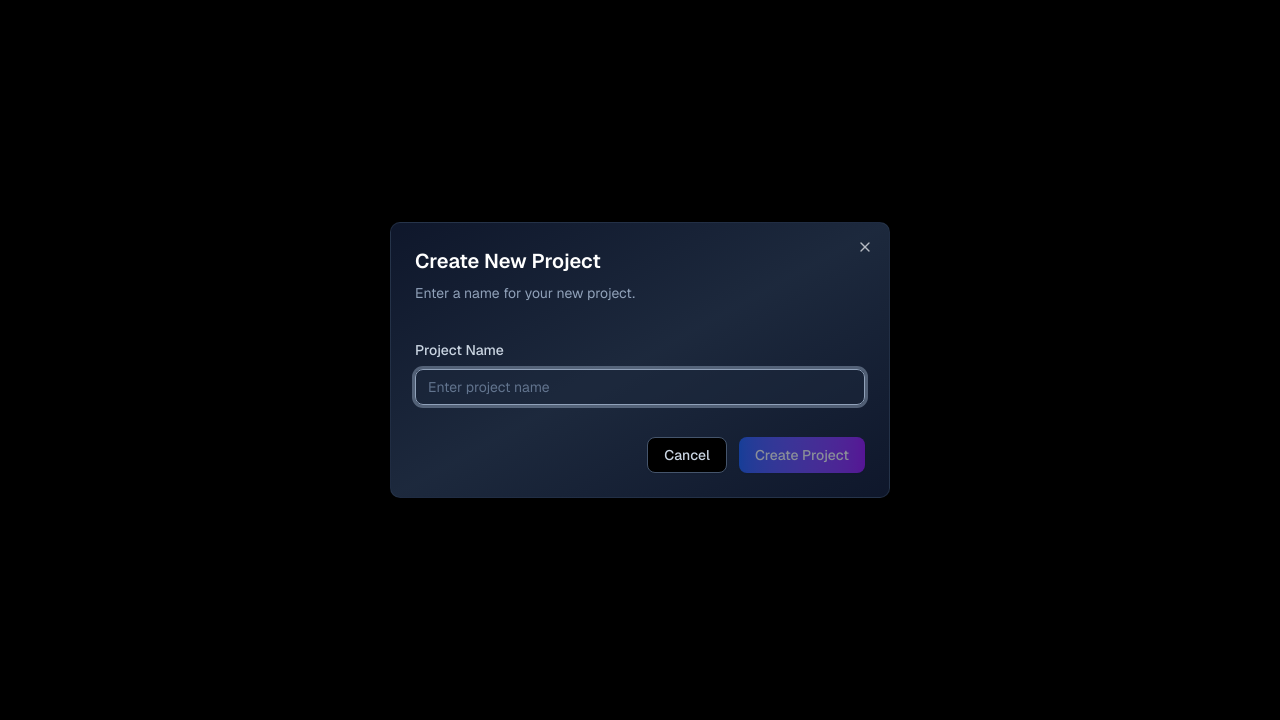
CreateProjectDialog › form submission › shows loading state during creation
The width and height of the screenshot is (1280, 720).
Type "Test Project" into the field with placeholder "Enter project name". click: {"x": 640, "y": 387}
box: [415,369,865,405]
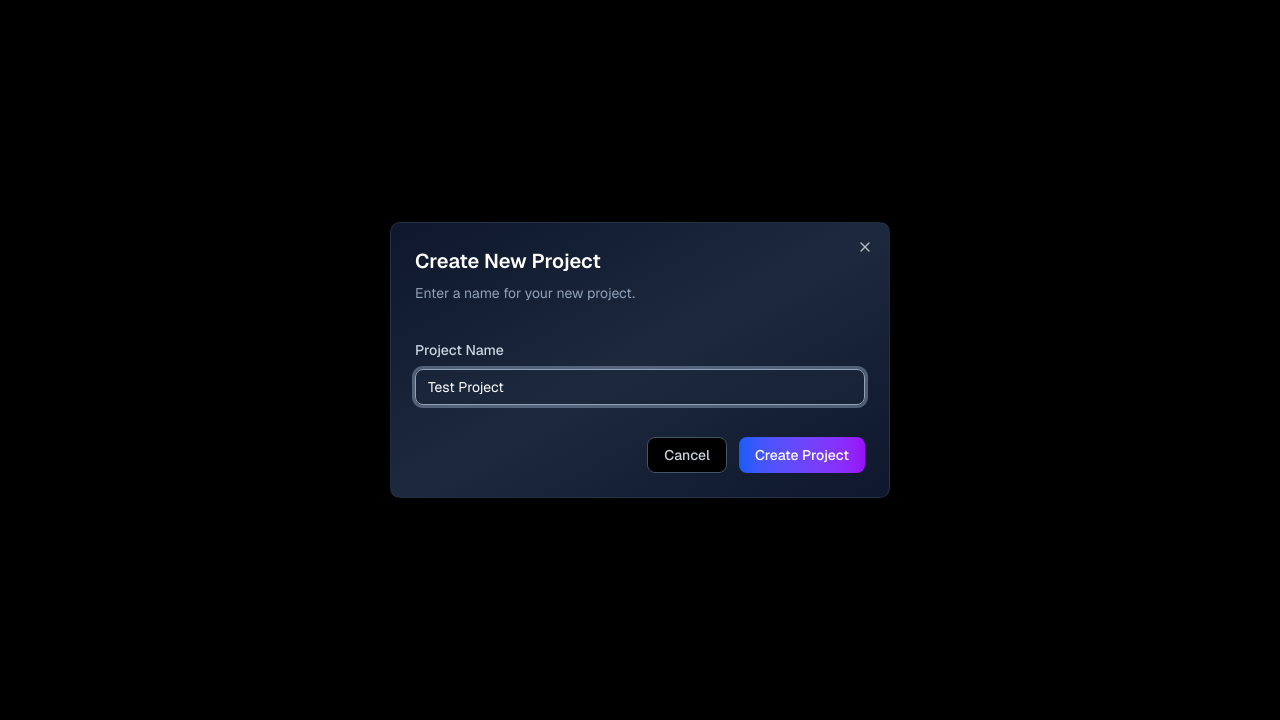
Click the button "Create Project". click: {"x": 802, "y": 455}
box: [739,437,865,473]
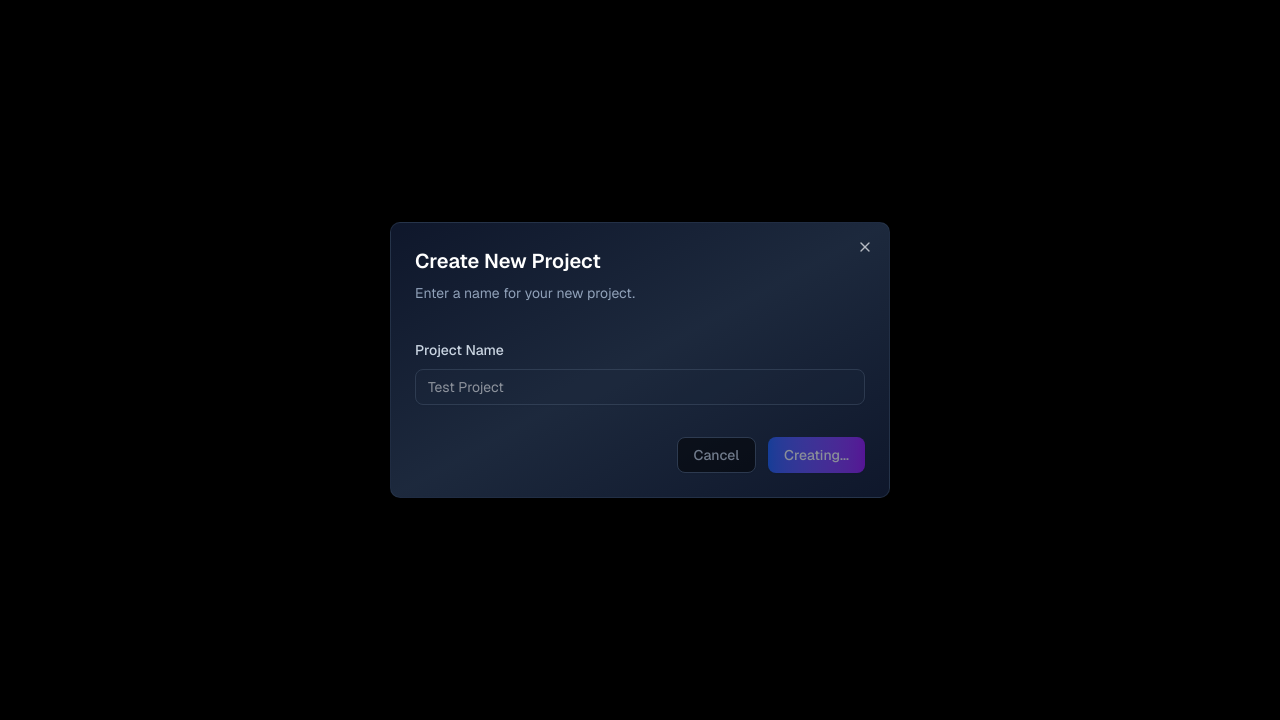
Now the button "Creating..." is disabled, box [768,437,865,473]
Now the field with placeholder "Enter project name" is disabled, box [415,369,865,405]
